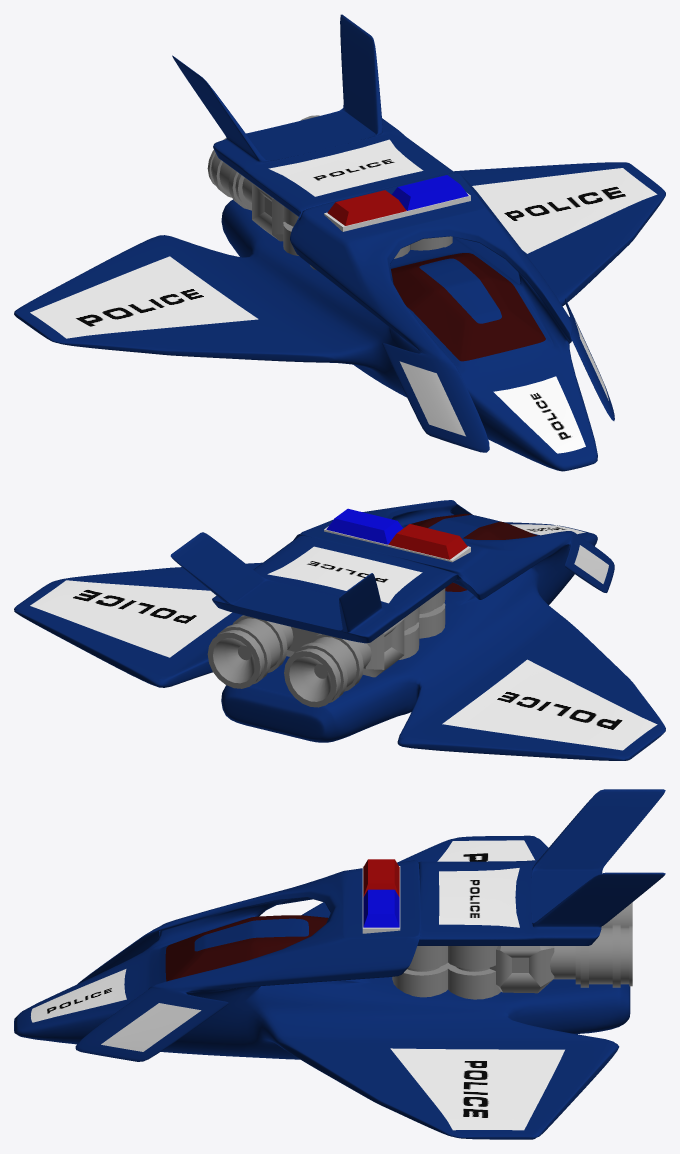
Rendered from PoliceShip.fbx.
3 views of the same model, one above another, from view 1: azimuth 30°, elevation 25°; view 2: azimuth 150°, elevation 25°; view 3: azimuth 270°, elevation 25° (orthographic).
Parts seen in each view (by area): view 1: pCube1, pCube5, pCube4, pCylinder14, pCube2, pCylinder10, pCube3; view 2: pCube1, pCylinder14, pCylinder13, pCube2, pCylinder10, pCube5, pCube4, pCube3; view 3: pCube1, pCylinder10, pCylinder13, pCube2, pCube4, pCube5.
Boxes of the visible parts, bbox=[...] form: pCube1: bbox=[14, 14, 665, 471]; pCube5: bbox=[327, 190, 406, 225]; pCube4: bbox=[391, 175, 468, 210]; pCylinder14: bbox=[207, 137, 251, 210]; pCube2: bbox=[252, 183, 285, 241]; pCylinder10: bbox=[283, 206, 452, 270]; pCube3: bbox=[324, 192, 470, 231]; pCube1: bbox=[14, 500, 665, 760]; pCylinder14: bbox=[284, 633, 371, 707]; pCylinder13: bbox=[207, 615, 293, 688]; pCube2: bbox=[286, 618, 404, 677]; pCylinder10: bbox=[399, 588, 445, 659]; pCube5: bbox=[388, 524, 467, 559]; pCube4: bbox=[326, 508, 403, 544]; pCube3: bbox=[324, 526, 470, 562]; pCube1: bbox=[14, 789, 665, 1139]; pCylinder10: bbox=[392, 946, 501, 999]; pCylinder13: bbox=[550, 924, 632, 987]; pCube2: bbox=[489, 946, 554, 993]; pCube4: bbox=[363, 889, 399, 927]; pCube5: bbox=[363, 859, 399, 896].
Bounding box in the file's own units: 80.6 × 26.6 × 73.81.
7 materials, 1 textured.
